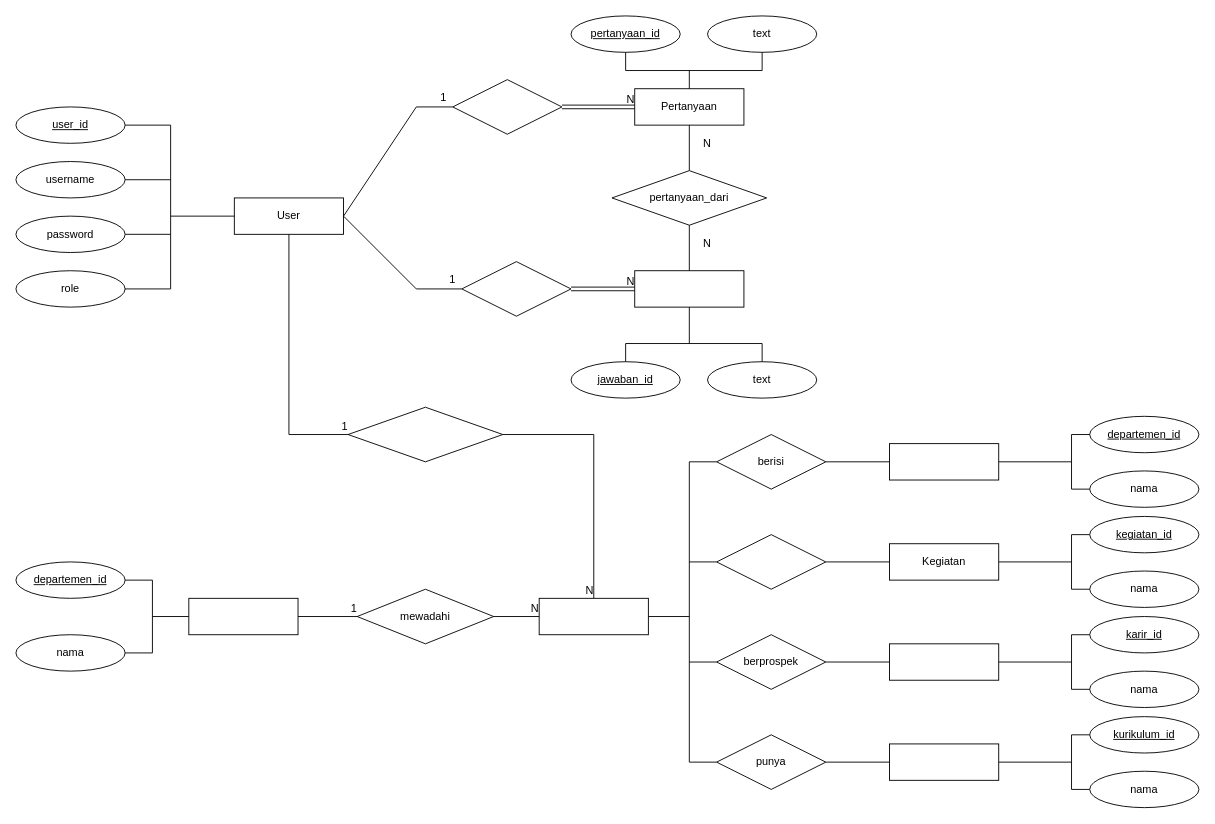
The diagram is 1215 pixels wide and 824 high, and some of its shapes have lost their labels. The centre of each missing label's shape, as x and y in pixels:
"berkegiatan" goes at pixel 771 561.
"bertanya" goes at pixel 507 106.
"Departemen" goes at pixel 243 616.
"Jawaban" goes at pixel 689 288.
"Jurusan" goes at pixel 593 616.
"Karir" goes at pixel 944 661.
"Kurikulum" goes at pixel 944 761.
"menjawab" goes at pixel 516 288.
"Organisasi" goes at pixel 944 461.
"wishlist" goes at pixel 425 434.
